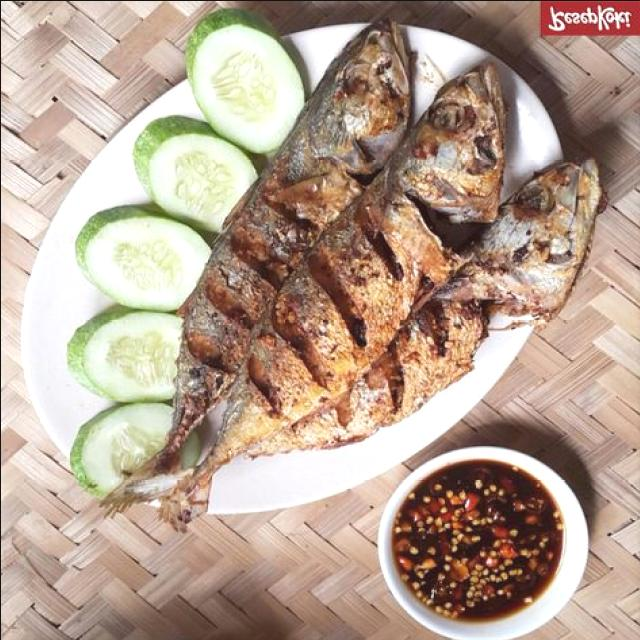ikan goreng: (154, 63, 505, 519), (153, 15, 413, 472), (260, 161, 597, 449)
